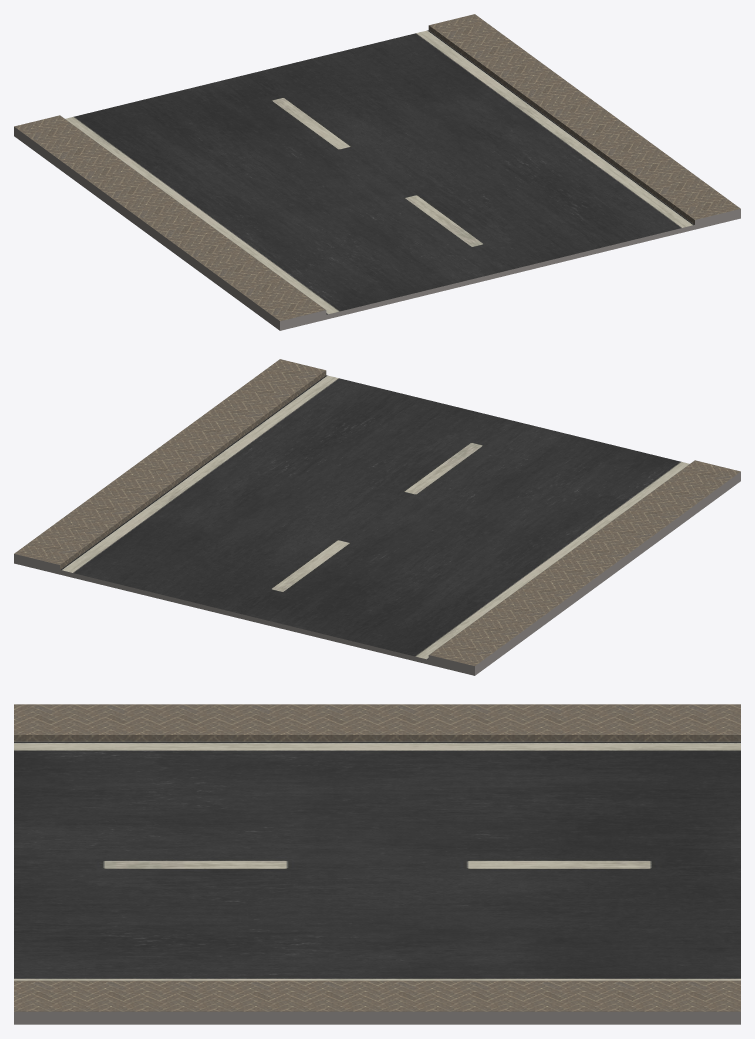
The model's file is road_straight.glb.
3 views of the same model, one above another, from view 1: azimuth 30°, elevation 25°; view 2: azimuth 150°, elevation 25°; view 3: azimuth 270°, elevation 25° (orthographic). The views are drawn at different scales.
Parts seen in each view (by area): view 1: Cube; view 2: Cube; view 3: Cube.
Boxes of the visible parts, x1,y1,x2,y2 form: Cube: (14, 14, 740, 330); Cube: (14, 359, 740, 675); Cube: (14, 704, 740, 1024).
Bounding box in the file's own units: 15 × 0.3 × 15.
1 material, 1 textured.
